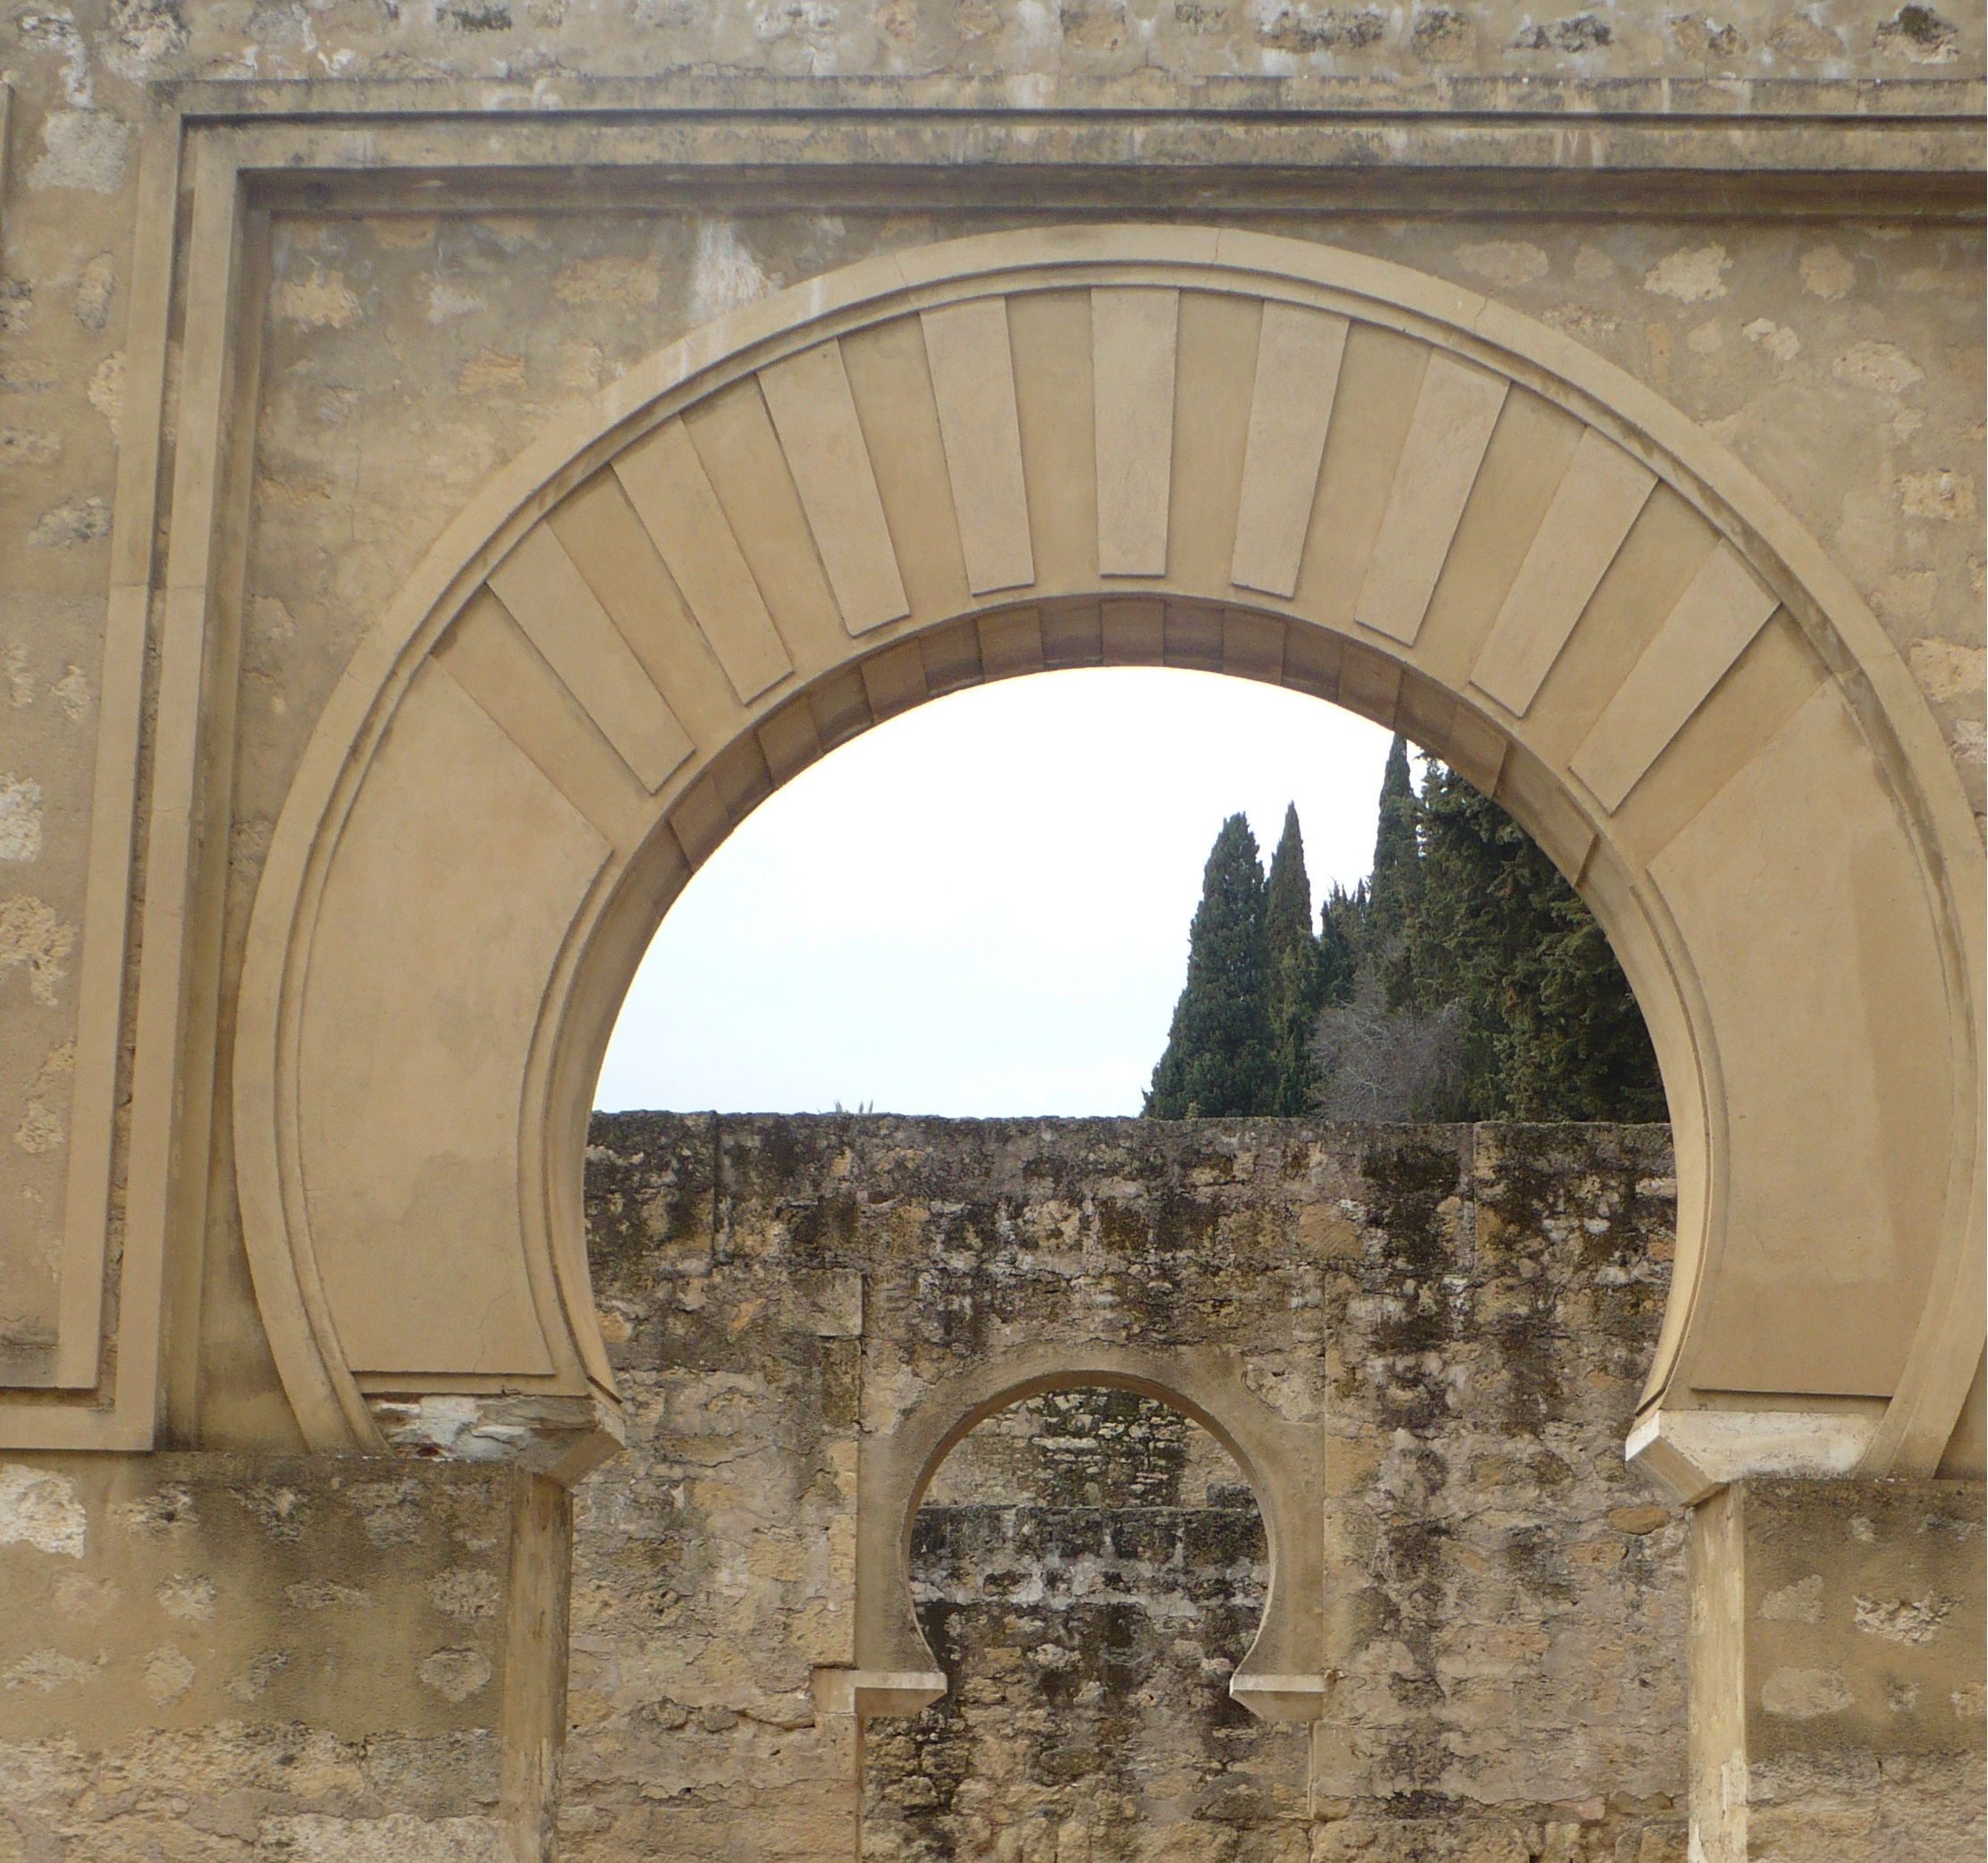arco-herradura: (448, 517, 1830, 1569), (891, 1345, 1304, 1747)
